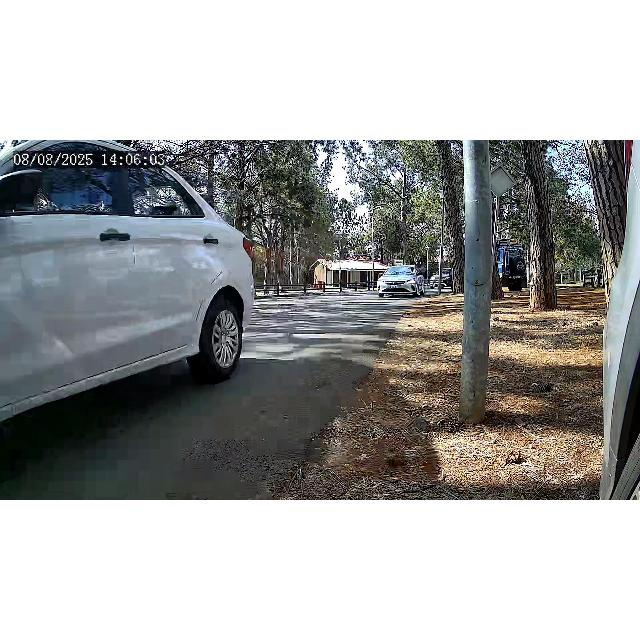car: (1, 140, 270, 410), (377, 267, 423, 297)
